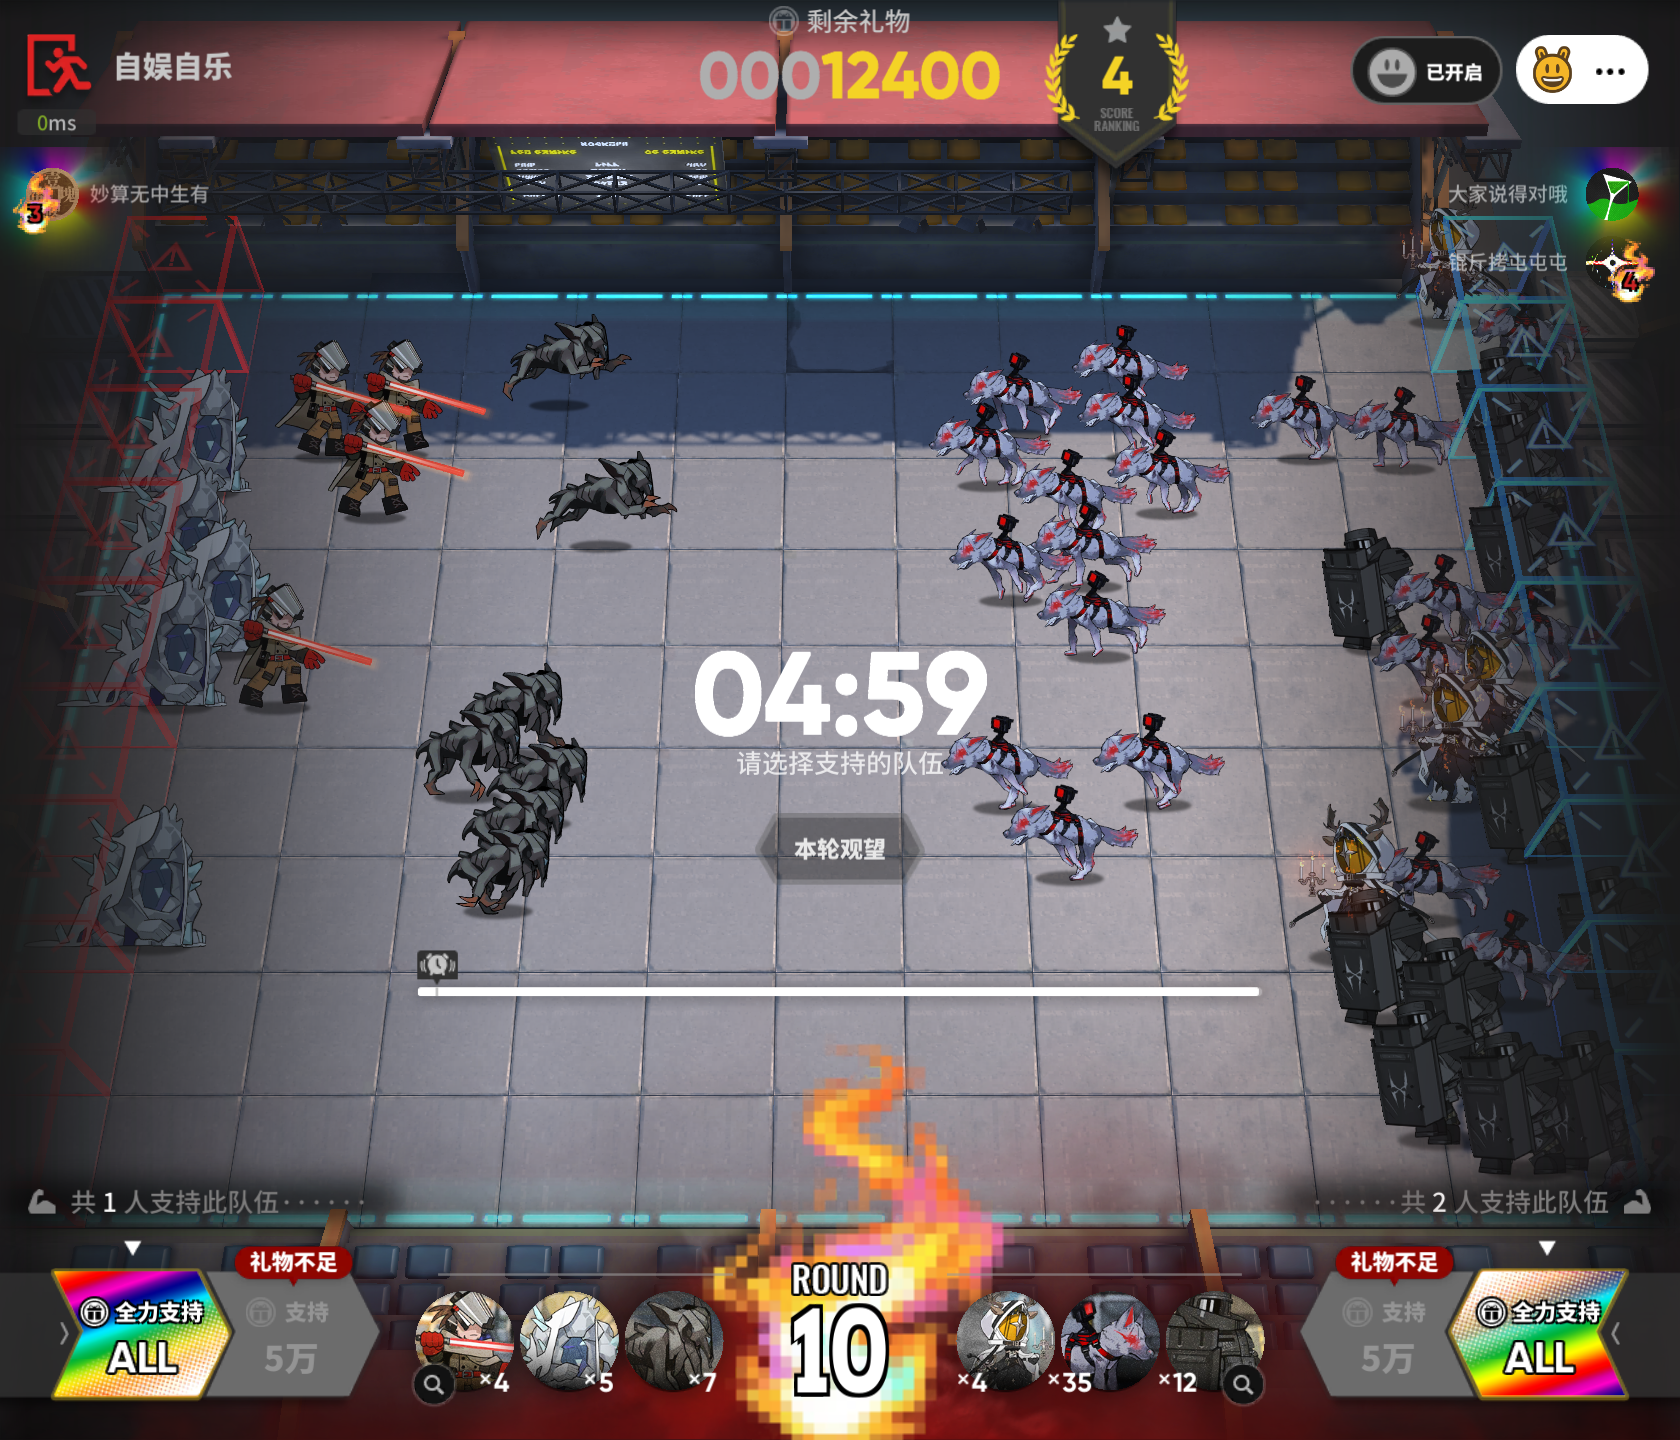弧光武士: (234, 574, 373, 719), (344, 401, 466, 526), (361, 331, 486, 439), (286, 334, 379, 469), (420, 1281, 521, 1391)
扎人的石头: (74, 800, 217, 959), (121, 587, 234, 716), (141, 367, 254, 491), (171, 523, 271, 656), (126, 470, 229, 583), (526, 1284, 624, 1401)
点灯骑士: (1304, 790, 1426, 949), (1411, 659, 1510, 816), (1397, 201, 1516, 326), (1454, 624, 1551, 759), (949, 1286, 1060, 1394)
狗Pro: (1001, 783, 1139, 881), (1091, 711, 1224, 810), (1460, 909, 1591, 1006), (941, 714, 1073, 810), (1034, 571, 1166, 656), (1460, 583, 1571, 680), (1030, 504, 1156, 587), (1107, 429, 1229, 514), (949, 513, 1066, 601), (963, 351, 1081, 434), (929, 404, 1049, 486), (1011, 447, 1136, 526), (1387, 830, 1499, 917), (1249, 374, 1361, 460), (1063, 1291, 1157, 1391), (1351, 386, 1460, 469), (1071, 324, 1189, 397), (1474, 297, 1579, 377), (1079, 389, 1194, 450), (1389, 553, 1469, 641), (1369, 613, 1453, 694)
迟钝的持盾者: (1557, 857, 1680, 1019), (1546, 1024, 1666, 1186), (1374, 999, 1491, 1146), (1321, 884, 1439, 1030), (1456, 1030, 1566, 1179), (1321, 517, 1426, 669), (1471, 399, 1584, 531), (1463, 339, 1567, 480), (1466, 481, 1574, 609), (1481, 729, 1579, 866), (1404, 937, 1511, 1060), (1167, 1290, 1264, 1394)
食腐野兽: (544, 449, 671, 541), (507, 306, 631, 396), (626, 1284, 729, 1393), (457, 656, 574, 739), (446, 843, 554, 927), (421, 709, 517, 794), (494, 739, 599, 816), (454, 791, 566, 857)
